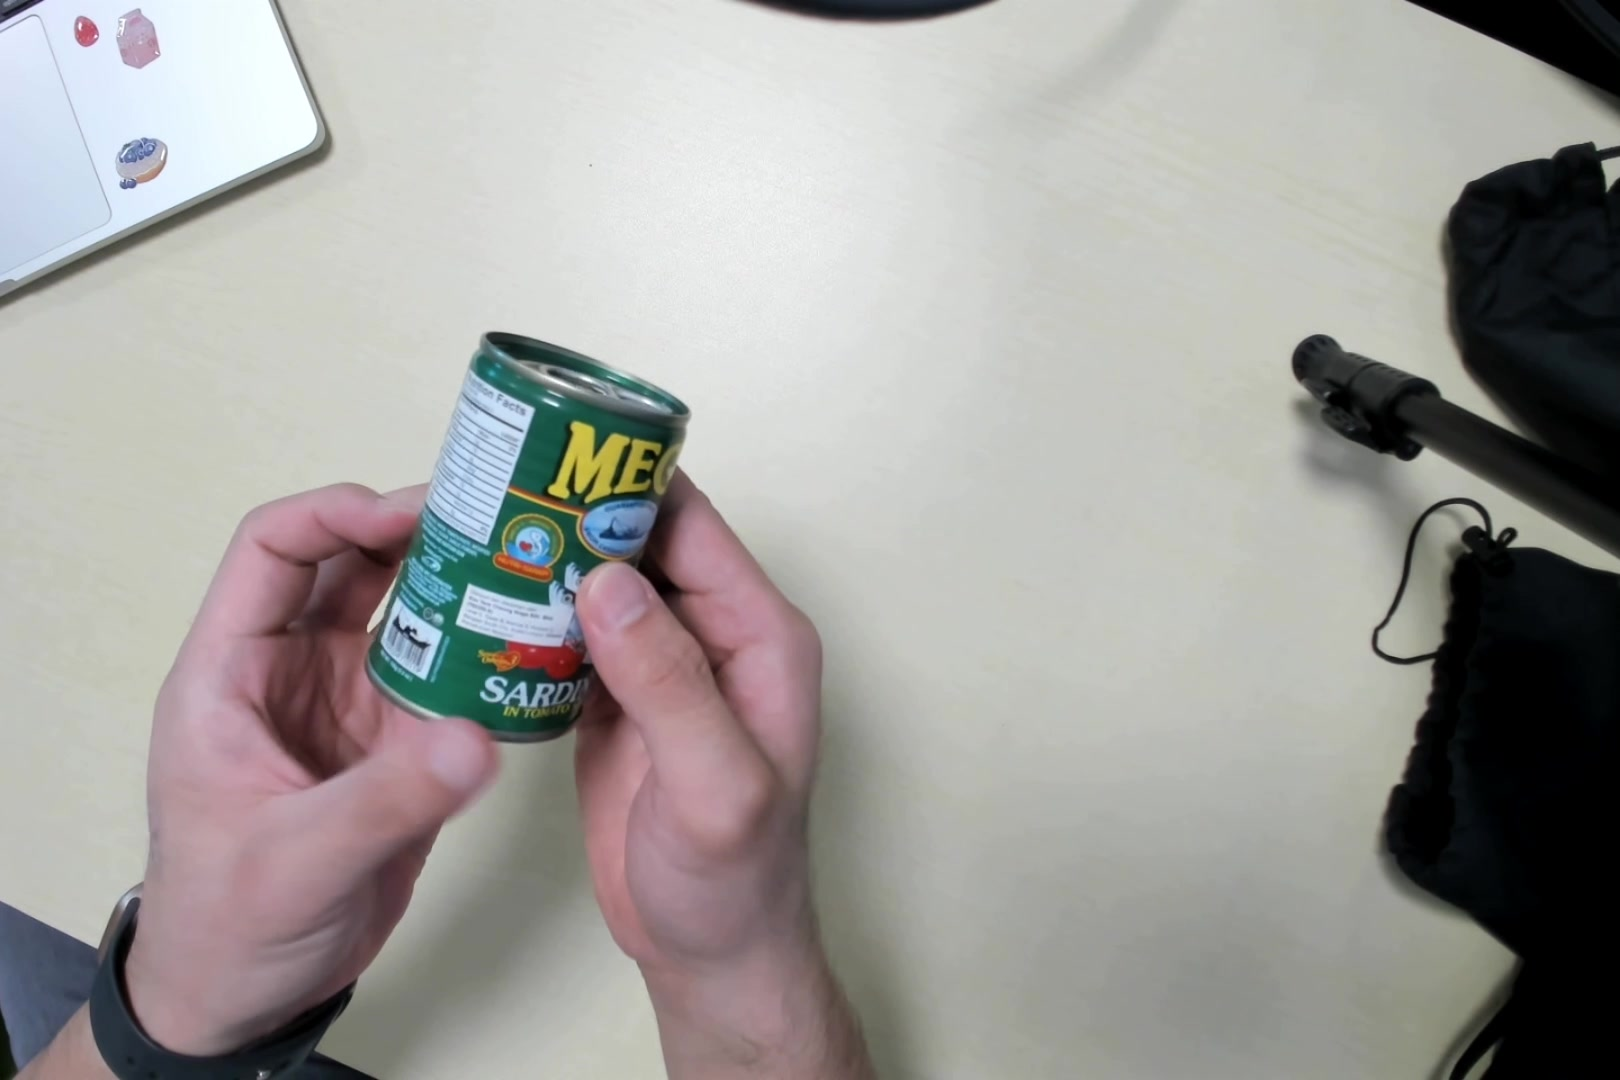CannedSardingMackerel_100-199g_NonHalal_NonHealthy: (369, 333, 677, 750)
